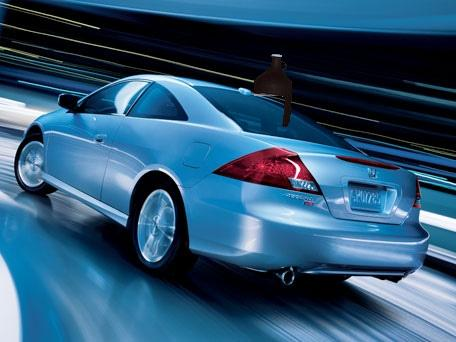tampered: (255, 55, 292, 127)
